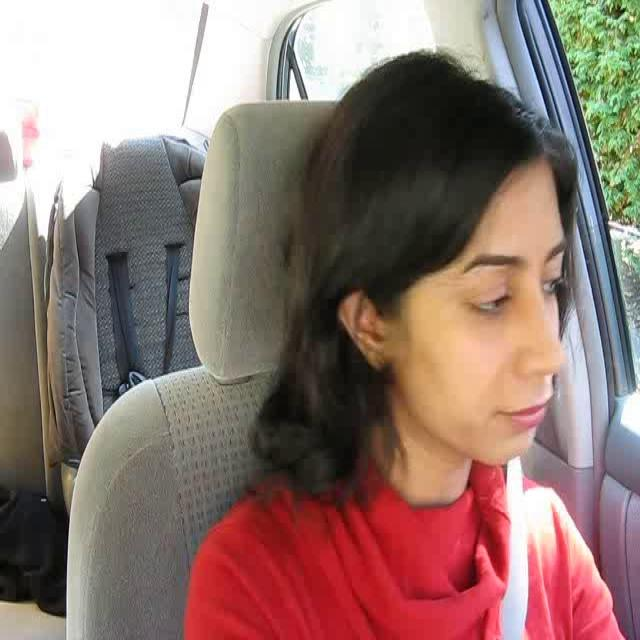close: (497, 394, 553, 432)
